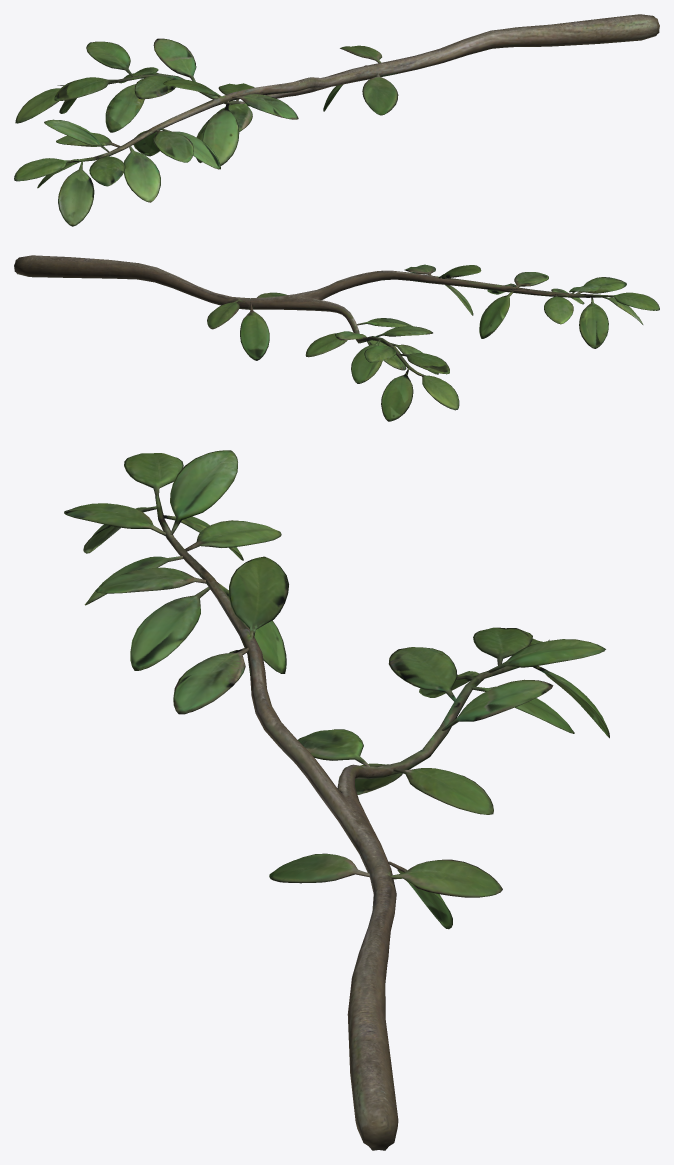
File: Environment_Branch_leaves_01.fbx
3 renders of one model, top to bottom at view 1: azimuth 30°, elevation 25°; view 2: azimuth 150°, elevation 25°; view 3: azimuth 270°, elevation 25°, orthographic. The views are drawn at different scales.
Visible parts, largest first — view 1: 7468be12c2ba777d2052de56d0126823dd31b1c3bf16d82503211503d26d; view 2: 7468be12c2ba777d2052de56d0126823dd31b1c3bf16d82503211503d26d; view 3: 7468be12c2ba777d2052de56d0126823dd31b1c3bf16d82503211503d26d.
Part boxes in pixels (x1=…): 7468be12c2ba777d2052de56d0126823dd31b1c3bf16d82503211503d26d: x1=14, y1=14, x2=659, y2=226; 7468be12c2ba777d2052de56d0126823dd31b1c3bf16d82503211503d26d: x1=14, y1=255, x2=659, y2=421; 7468be12c2ba777d2052de56d0126823dd31b1c3bf16d82503211503d26d: x1=64, y1=450, x2=609, y2=1150.
Size of the model in its own units: 200 by 32.72 by 80.81.
Materials: 1 (1 with a texture image).
